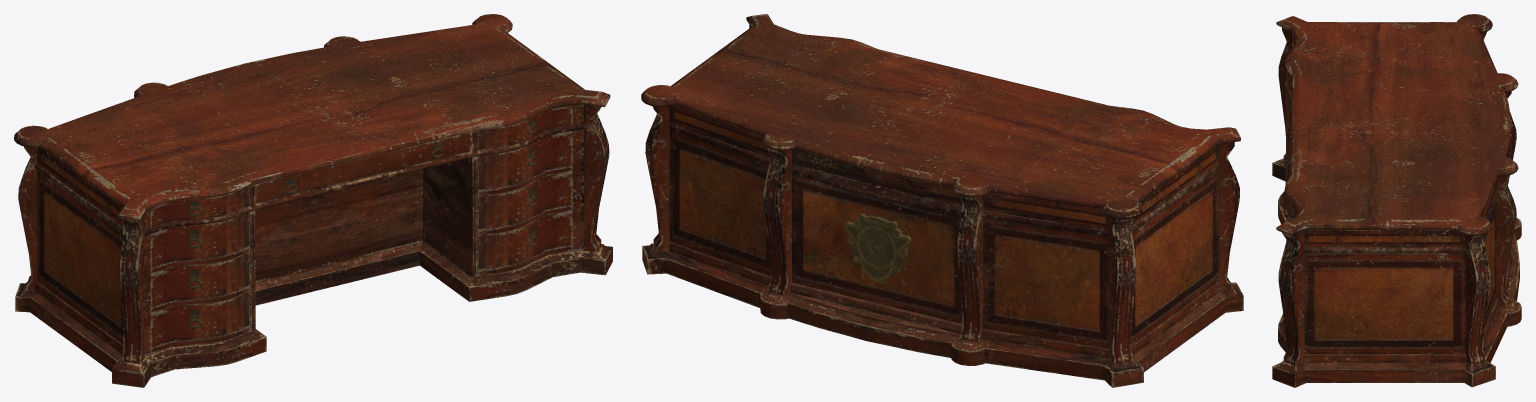
File: 025_HeadDesk.fbx
The picture shows the model from 3 angles, left to right: view 1: azimuth 30°, elevation 25°; view 2: azimuth 150°, elevation 25°; view 3: azimuth 270°, elevation 25°; orthographic projection. The views are drawn at different scales.
Visible parts, largest first — view 1: LOD_1_Group_0_Sub_1__sm30_025_HeadDesk01A_A_Mat, LOD_1_Group_3_Sub_1__sm30_025_HeadDesk01A_A_Mat, LOD_1_Group_5_Sub_1__sm30_025_HeadDesk01A_A_Mat, LOD_1_Group_2_Sub_1__sm30_025_HeadDesk01A_A_Mat, LOD_1_Group_1_Sub_1__sm30_025_HeadDesk01A_A_Mat, LOD_1_Group_6_Sub_1__sm30_025_HeadDesk01A_A_Mat, LOD_1_Group_7_Sub_1__sm30_025_HeadDesk01A_A_Mat; view 2: LOD_1_Group_0_Sub_1__sm30_025_HeadDesk01A_A_Mat, LOD_1_Group_2_Sub_1__sm30_025_HeadDesk01A_A_Mat, LOD_1_Group_1_Sub_1__sm30_025_HeadDesk01A_A_Mat; view 3: LOD_1_Group_0_Sub_1__sm30_025_HeadDesk01A_A_Mat, LOD_1_Group_2_Sub_1__sm30_025_HeadDesk01A_A_Mat, LOD_1_Group_1_Sub_1__sm30_025_HeadDesk01A_A_Mat, LOD_1_Group_3_Sub_1__sm30_025_HeadDesk01A_A_Mat.
Boxes of the visible parts, bbox=[...] form: LOD_1_Group_0_Sub_1__sm30_025_HeadDesk01A_A_Mat: bbox=[14, 14, 612, 387]; LOD_1_Group_3_Sub_1__sm30_025_HeadDesk01A_A_Mat: bbox=[150, 106, 572, 347]; LOD_1_Group_5_Sub_1__sm30_025_HeadDesk01A_A_Mat: bbox=[144, 105, 583, 356]; LOD_1_Group_2_Sub_1__sm30_025_HeadDesk01A_A_Mat: bbox=[35, 147, 123, 354]; LOD_1_Group_1_Sub_1__sm30_025_HeadDesk01A_A_Mat: bbox=[18, 105, 609, 363]; LOD_1_Group_6_Sub_1__sm30_025_HeadDesk01A_A_Mat: bbox=[150, 166, 572, 353]; LOD_1_Group_7_Sub_1__sm30_025_HeadDesk01A_A_Mat: bbox=[188, 124, 537, 329]; LOD_1_Group_0_Sub_1__sm30_025_HeadDesk01A_A_Mat: bbox=[641, 14, 1243, 387]; LOD_1_Group_2_Sub_1__sm30_025_HeadDesk01A_A_Mat: bbox=[669, 105, 1220, 358]; LOD_1_Group_1_Sub_1__sm30_025_HeadDesk01A_A_Mat: bbox=[645, 25, 1239, 363]; LOD_1_Group_0_Sub_1__sm30_025_HeadDesk01A_A_Mat: bbox=[1272, 14, 1521, 387]; LOD_1_Group_2_Sub_1__sm30_025_HeadDesk01A_A_Mat: bbox=[1303, 181, 1498, 362]; LOD_1_Group_1_Sub_1__sm30_025_HeadDesk01A_A_Mat: bbox=[1278, 27, 1516, 365]; LOD_1_Group_3_Sub_1__sm30_025_HeadDesk01A_A_Mat: bbox=[1285, 39, 1296, 240].
Bounding box in the file's own units: 2.93 × 0.9681 × 1.4.
